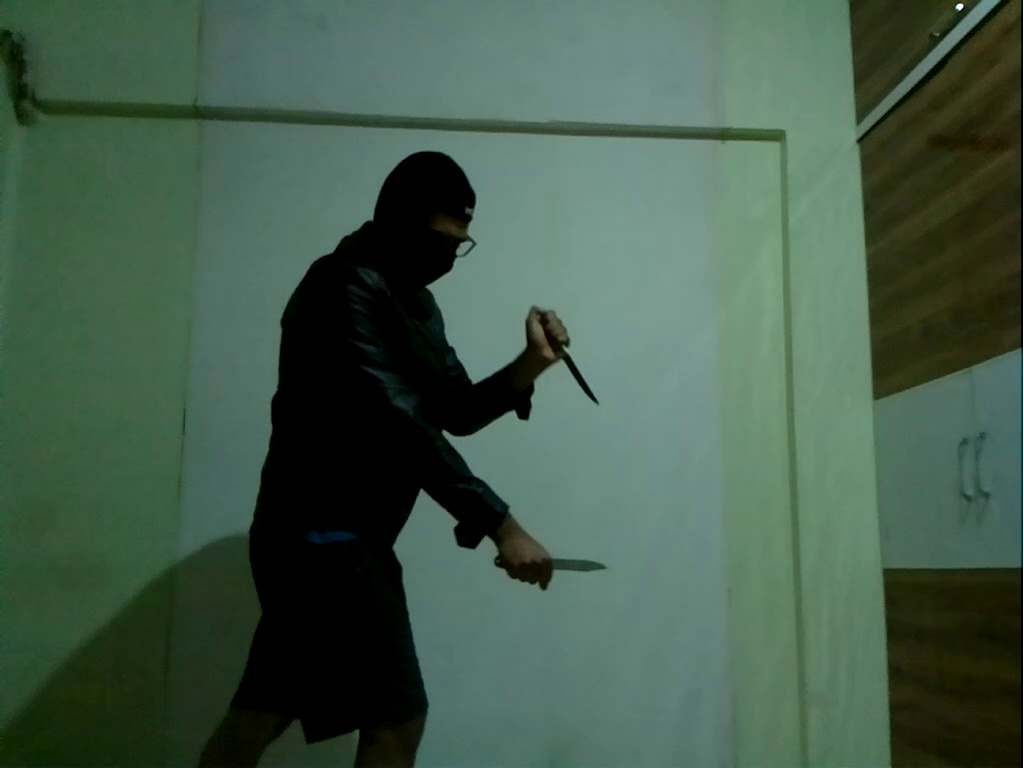knife: (551, 336, 604, 407), (542, 556, 613, 576)
